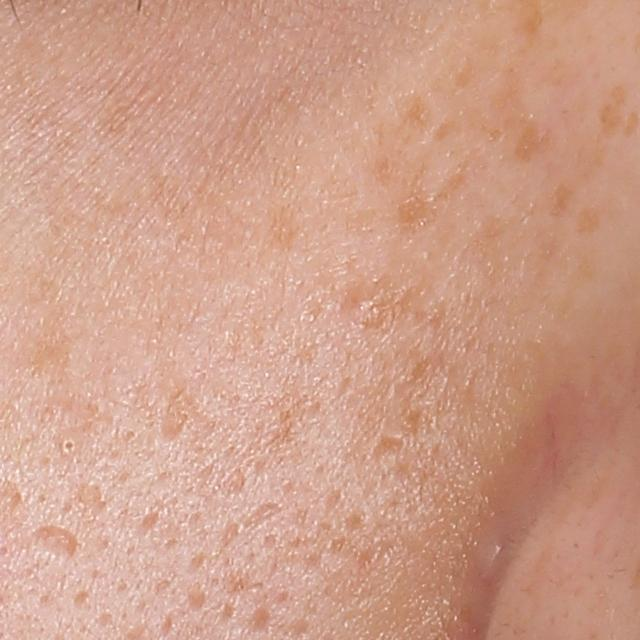atrophic_scar: (236, 497, 289, 538), (365, 432, 412, 474), (31, 525, 89, 553), (75, 482, 112, 521), (247, 606, 272, 638)
comedo: (59, 434, 81, 455)
melasma: (385, 184, 438, 237), (435, 148, 482, 201), (489, 63, 531, 119), (267, 200, 308, 253), (502, 121, 545, 166), (397, 89, 439, 135), (597, 80, 624, 135), (455, 53, 483, 94), (576, 203, 605, 241), (548, 183, 577, 213), (433, 115, 461, 142)
